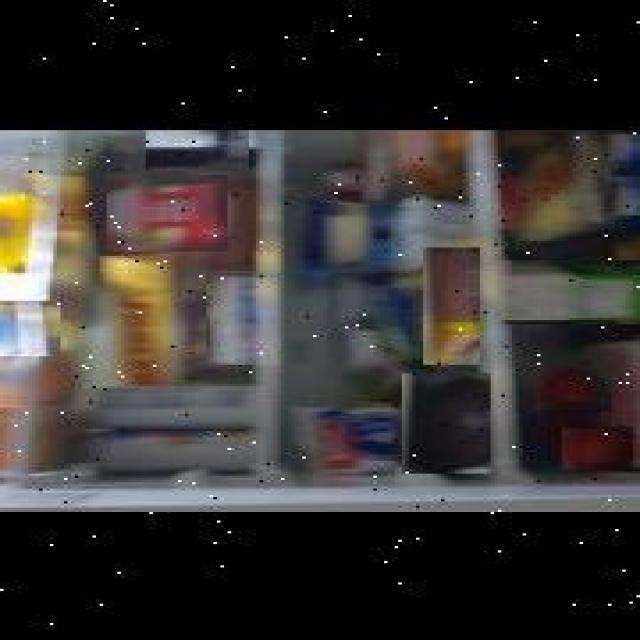butter: (106, 172, 228, 250)
cheese: (206, 271, 281, 363)
marmelade: (146, 128, 249, 169)
mayonaise: (0, 297, 75, 352)
milk: (501, 258, 640, 322)
sausage: (425, 245, 482, 363)
tomato: (535, 364, 613, 410), (562, 424, 633, 468)
yogurt: (402, 371, 491, 472), (604, 166, 640, 218), (604, 128, 640, 171)
